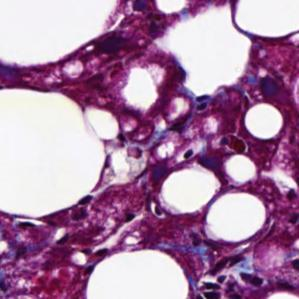inflammation: (194, 250, 268, 299), (163, 94, 211, 132)
